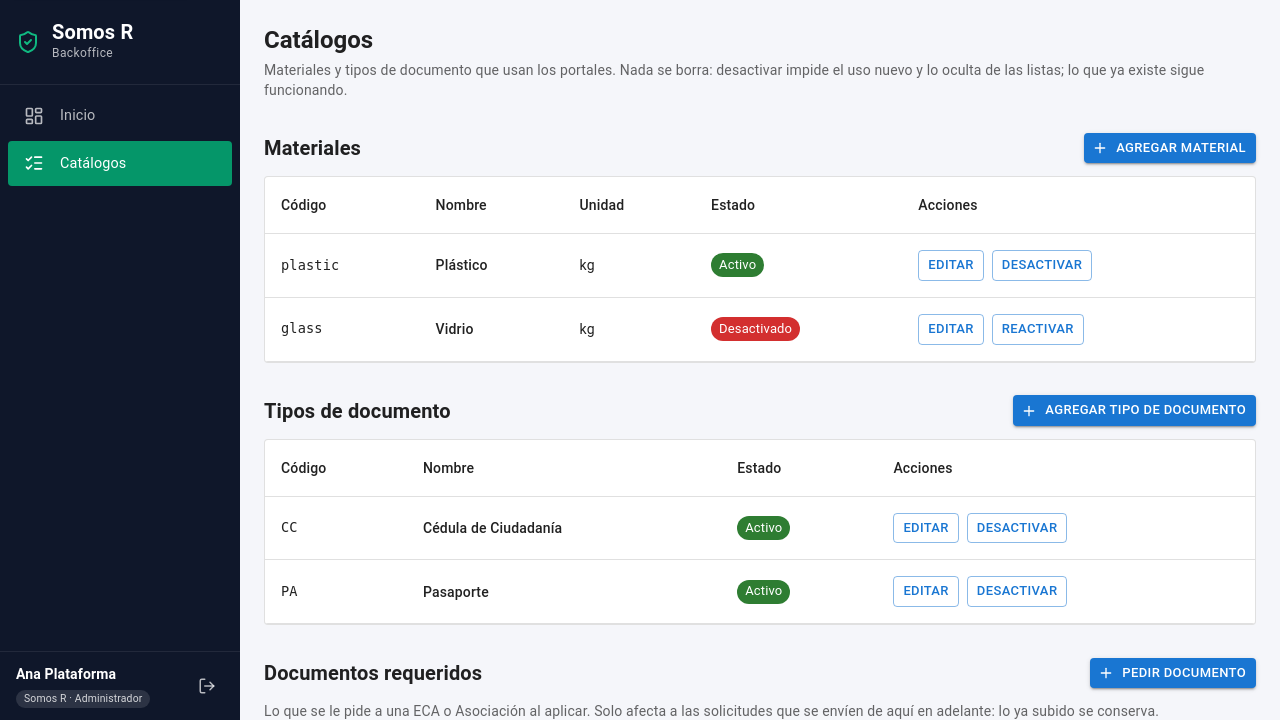
Test: catalogs screen › adds a material with its code and name
Click the button "Agregar material" at (1170, 148), box [1084, 133, 1256, 164]
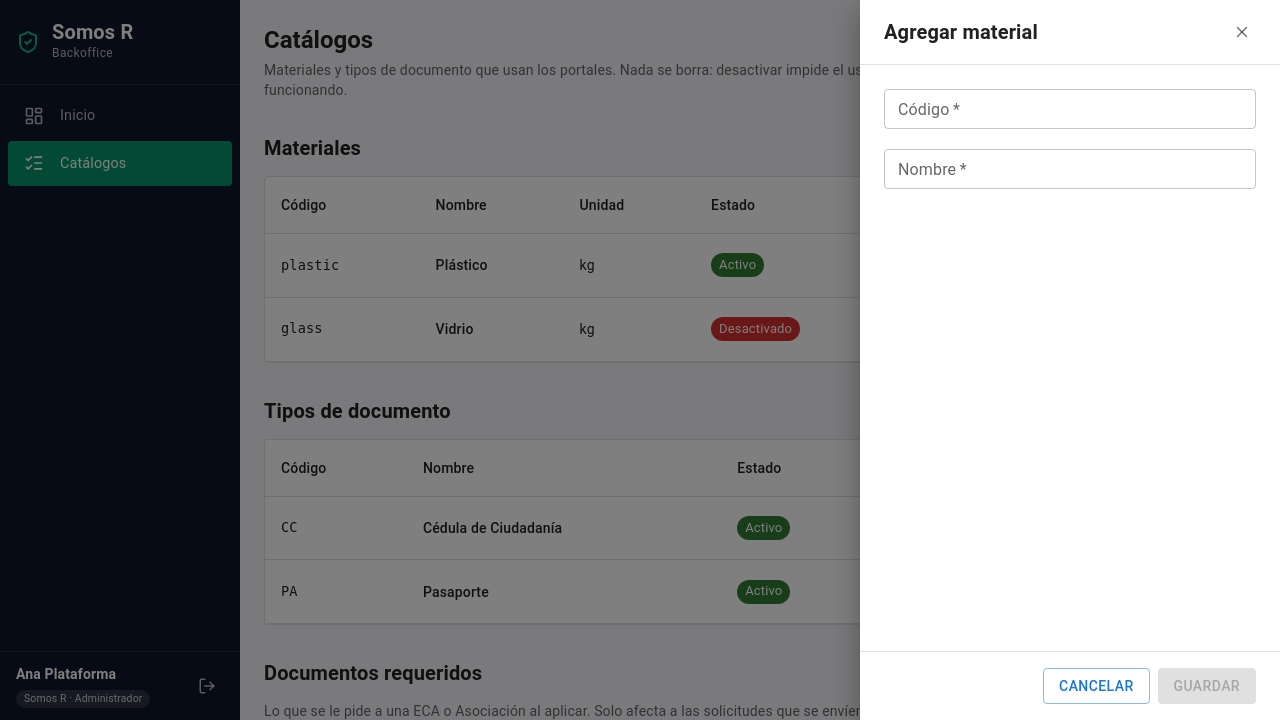
Type "cardboard" into the field labelled "Código *" at (1070, 109), box [884, 89, 1256, 129]
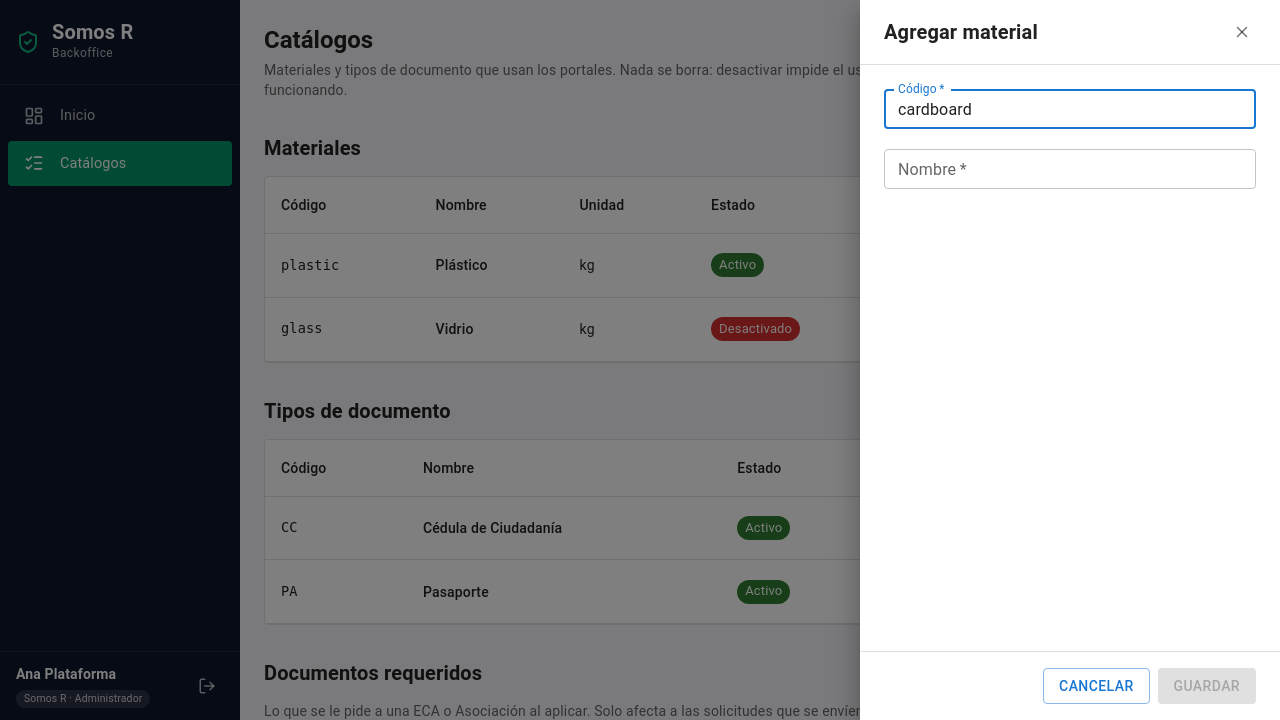
Type " Cartón " into the field labelled "Nombre *" at (1070, 169), box [884, 149, 1256, 189]
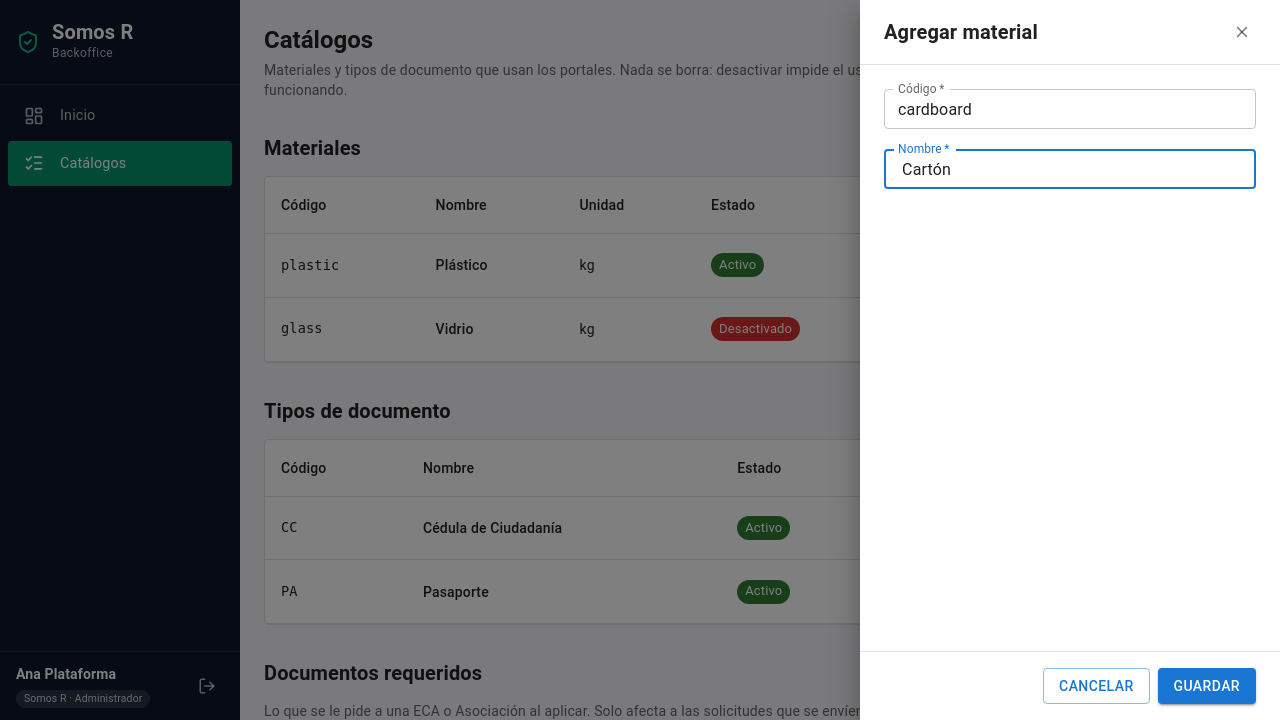
Click the button "Guardar" at (1207, 686), box [1158, 668, 1256, 704]
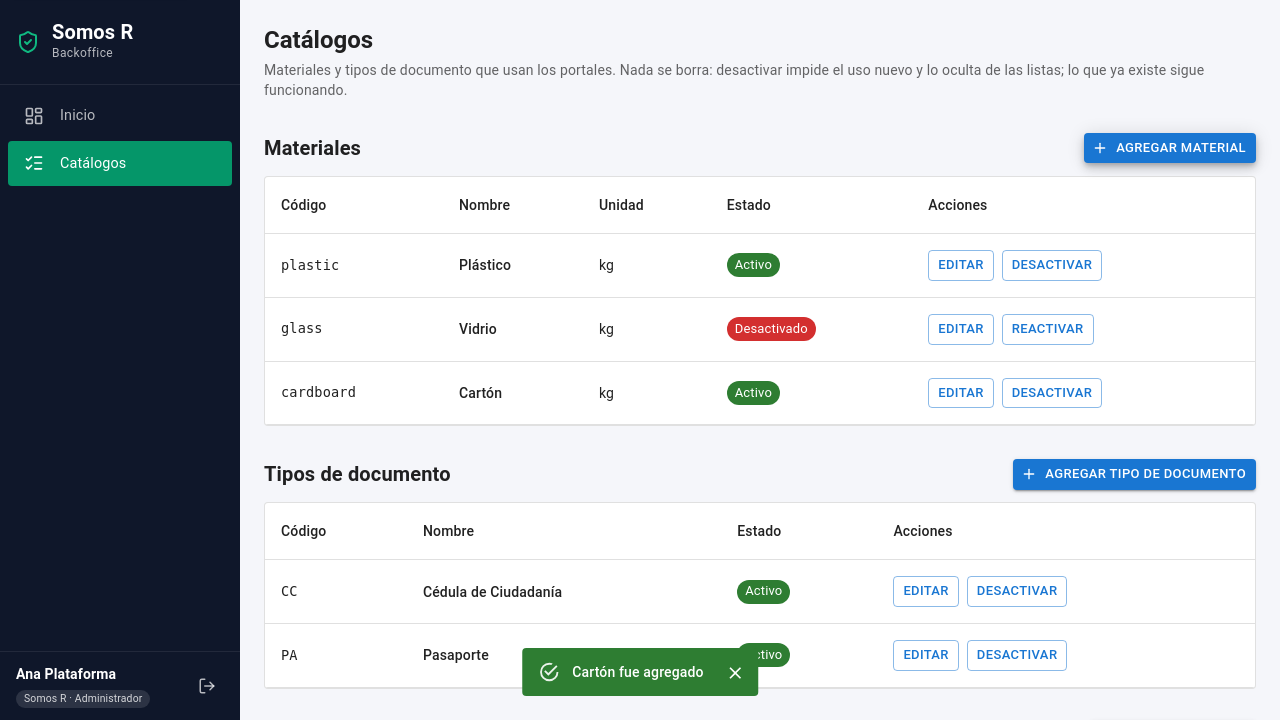
Expected: the text "Cartón fue agregado" is shown, [572, 664, 704, 680]
Expected: the row "cardboard Cartón kg Activo Editar Desactivar" is shown, [265, 361, 1255, 425]
